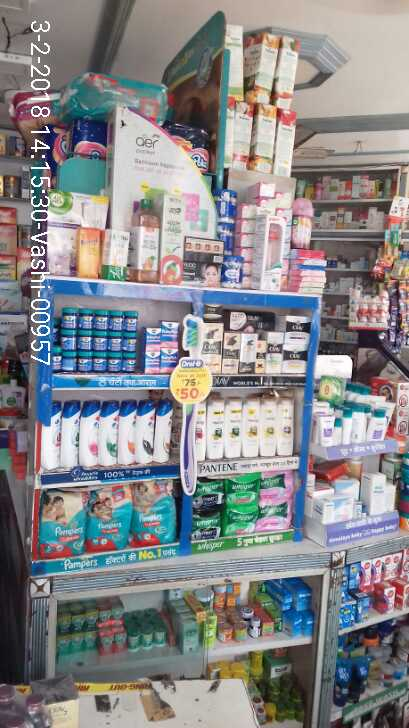beauty: (61, 399, 81, 467), (80, 400, 100, 467), (99, 401, 118, 468), (154, 400, 173, 463), (136, 399, 155, 462), (276, 395, 295, 457), (223, 398, 242, 458), (257, 396, 276, 456), (118, 401, 136, 464), (282, 331, 308, 374), (241, 397, 259, 457), (207, 403, 224, 460), (267, 331, 283, 375), (239, 333, 254, 374), (227, 311, 248, 334), (255, 339, 267, 373)
pharmacy: (38, 488, 86, 558), (130, 485, 178, 546), (86, 487, 130, 548), (256, 497, 291, 529), (220, 504, 257, 534), (224, 476, 259, 506), (190, 510, 222, 541), (190, 481, 225, 509), (258, 472, 293, 498), (223, 331, 239, 375), (159, 320, 179, 348), (141, 325, 160, 350), (161, 347, 178, 372), (60, 307, 78, 329), (141, 352, 159, 373), (94, 309, 109, 333), (78, 308, 94, 330), (121, 351, 136, 373), (109, 310, 123, 332), (77, 333, 93, 352), (77, 353, 93, 372), (123, 311, 137, 332), (62, 350, 76, 371), (108, 334, 124, 352), (93, 352, 107, 372), (121, 335, 138, 351), (59, 334, 77, 349), (92, 334, 107, 351), (108, 352, 120, 372)
